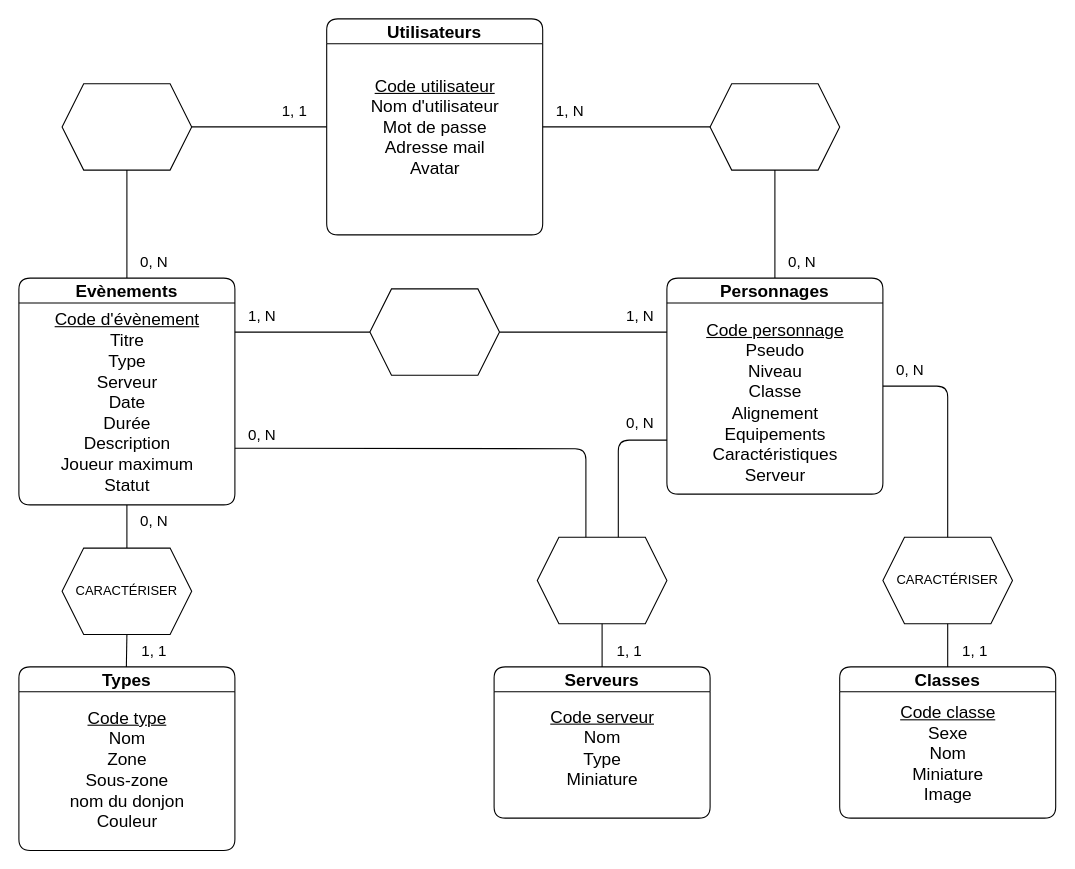
The diagram is 1075 pixels wide and 869 high, and some of its shapes have lost their labels. Here are the shapes that lost their labels. From the top down, the centre of each, then its label:
At (x=126, y=126): "CRÉER".
At (x=774, y=126): "JOUER".
At (x=434, y=331): "PARTICIPER".
At (x=601, y=580): "APPARTENIR".
